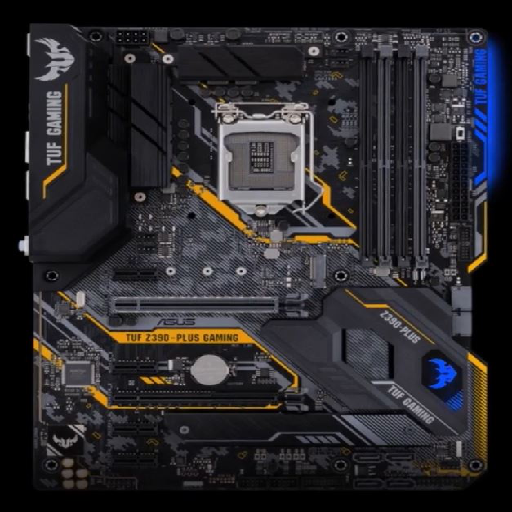CPU: (215, 109, 306, 214)
GPU: (106, 289, 309, 322), (108, 385, 308, 415)
MOTHERBOARD: (22, 21, 494, 494)
RAM: (357, 44, 432, 272)
SSD: (306, 251, 329, 291)
